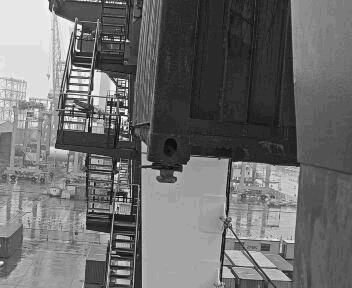twist_lock_1: (164, 158, 203, 190)
